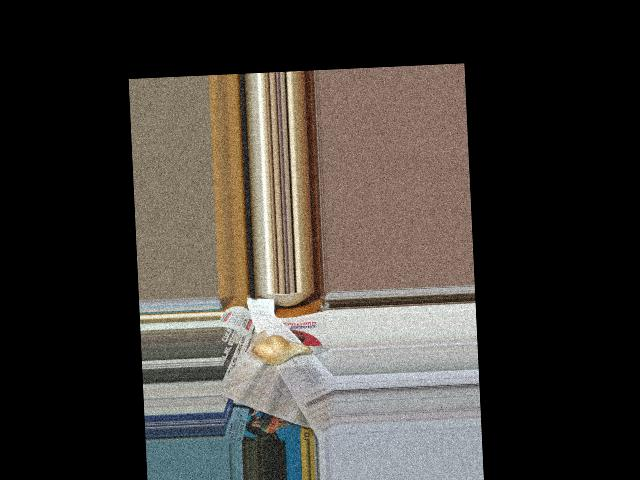onion: (252, 334, 308, 368)
